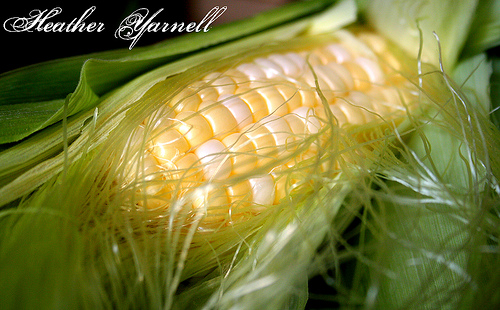corn: (74, 30, 433, 265)
